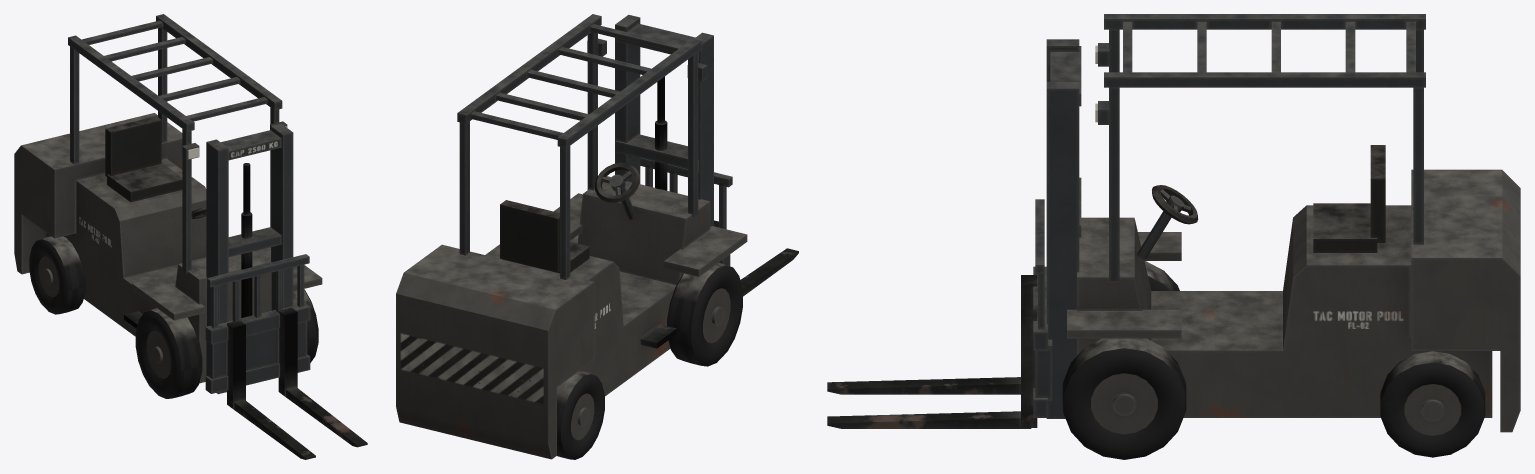
Rendered from W2_Forklift.fbx.
3 views of the same model, side by side, from view 1: azimuth 30°, elevation 25°; view 2: azimuth 150°, elevation 25°; view 3: azimuth 270°, elevation 25° (orthographic). The views are drawn at different scales.
Visible parts, largest first — view 1: W2_Forklift__W2_Forklift_Body, W2_Forklift__W2_Forklift_Forks, W2_Forklift__W2_Forklift_Mast, W2_Forklift__W2_Forklift_WheelF, W2_Forklift__W2_Forklift_WheelR, W2_Forklift__W2_Forklift_WheelF.001; view 2: W2_Forklift__W2_Forklift_Body, W2_Forklift__W2_Forklift_Mast, W2_Forklift__W2_Forklift_WheelF, W2_Forklift__W2_Forklift_WheelR, W2_Forklift__W2_Forklift_Forks, W2_Forklift__W2_Forklift_Steer; view 3: W2_Forklift__W2_Forklift_Body, W2_Forklift__W2_Forklift_WheelF.001, W2_Forklift__W2_Forklift_Mast, W2_Forklift__W2_Forklift_Forks, W2_Forklift__W2_Forklift_WheelR.001, W2_Forklift__W2_Forklift_Steer.
Boxes of the visible parts, bbox=[...] form: W2_Forklift__W2_Forklift_Body: bbox=[14, 14, 322, 383]; W2_Forklift__W2_Forklift_Forks: bbox=[205, 254, 367, 459]; W2_Forklift__W2_Forklift_Mast: bbox=[206, 123, 293, 394]; W2_Forklift__W2_Forklift_WheelF: bbox=[135, 308, 202, 398]; W2_Forklift__W2_Forklift_WheelR: bbox=[29, 236, 85, 314]; W2_Forklift__W2_Forklift_WheelF.001: bbox=[293, 289, 318, 362]; W2_Forklift__W2_Forklift_Body: bbox=[396, 14, 747, 459]; W2_Forklift__W2_Forklift_Mast: bbox=[615, 14, 713, 226]; W2_Forklift__W2_Forklift_WheelF: bbox=[667, 262, 742, 366]; W2_Forklift__W2_Forklift_WheelR: bbox=[557, 370, 604, 459]; W2_Forklift__W2_Forklift_Forks: bbox=[640, 157, 798, 296]; W2_Forklift__W2_Forklift_Steer: bbox=[595, 162, 639, 202]; W2_Forklift__W2_Forklift_Body: bbox=[1067, 14, 1520, 432]; W2_Forklift__W2_Forklift_WheelF.001: bbox=[1062, 338, 1186, 459]; W2_Forklift__W2_Forklift_Mast: bbox=[1046, 39, 1081, 418]; W2_Forklift__W2_Forklift_Forks: bbox=[827, 199, 1052, 428]; W2_Forklift__W2_Forklift_WheelR.001: bbox=[1380, 351, 1485, 457]; W2_Forklift__W2_Forklift_Steer: bbox=[1152, 185, 1198, 224].
Bounding box in the file's own units: 344 × 605 × 1027.
1 material, 1 textured.
